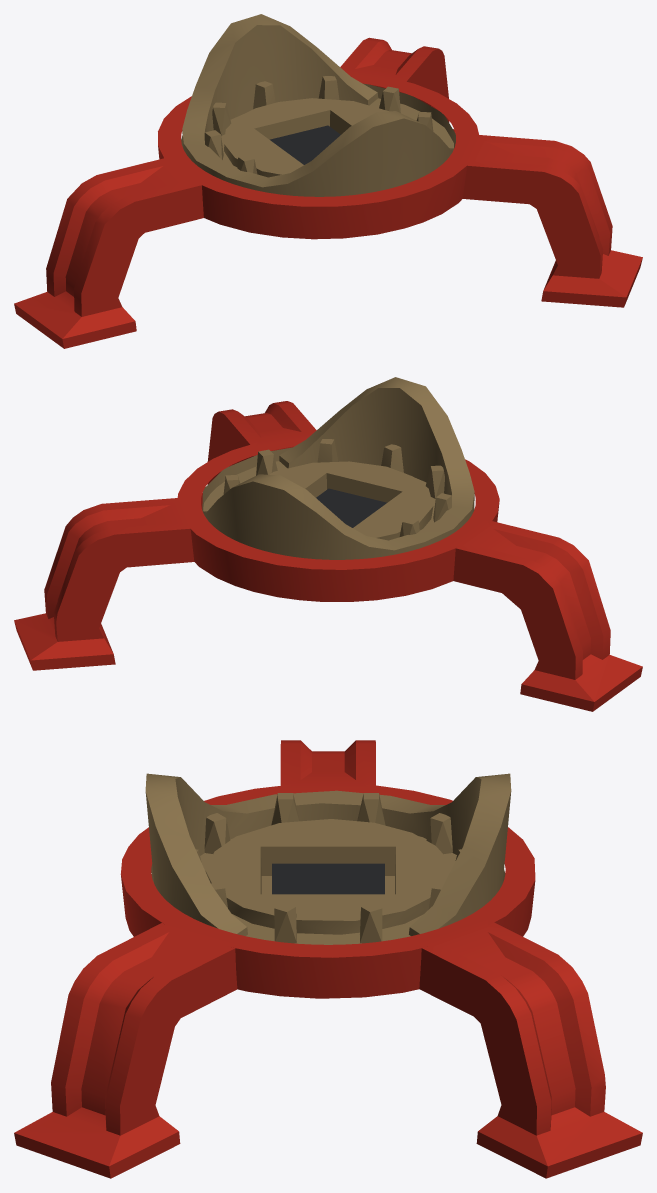
File: long-handed-inserter-west.glb
3 renders of one model, top to bottom at view 1: azimuth 30°, elevation 25°; view 2: azimuth 150°, elevation 25°; view 3: azimuth 270°, elevation 25°, orthographic. The views are drawn at different scales.
Parts seen in each view (by area): view 1: body; view 2: body; view 3: body.
Boxes of the visible parts, x1,y1,x2,y2 form: body: [14, 14, 642, 348]; body: [14, 377, 642, 711]; body: [14, 740, 642, 1178].
Bounding box in the file's own units: 1.15 × 0.4117 × 0.938.
